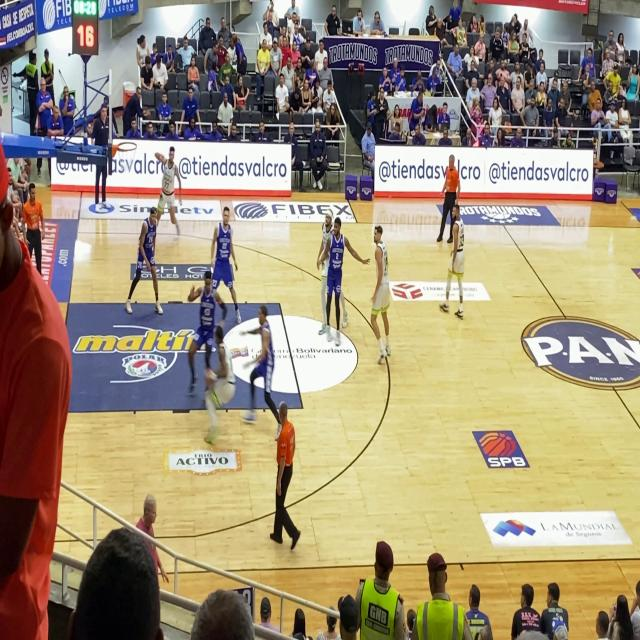Ball: (204, 365, 219, 389)
referee: (268, 398, 306, 566), (438, 147, 463, 257), (22, 181, 50, 273)
team1: (363, 212, 399, 369), (142, 134, 185, 246), (440, 198, 476, 324), (202, 328, 232, 443), (314, 200, 336, 335)
team2: (319, 214, 367, 348), (242, 296, 282, 434), (206, 191, 242, 326), (131, 209, 165, 304), (190, 267, 215, 369)
ubasket: (115, 139, 137, 168)
